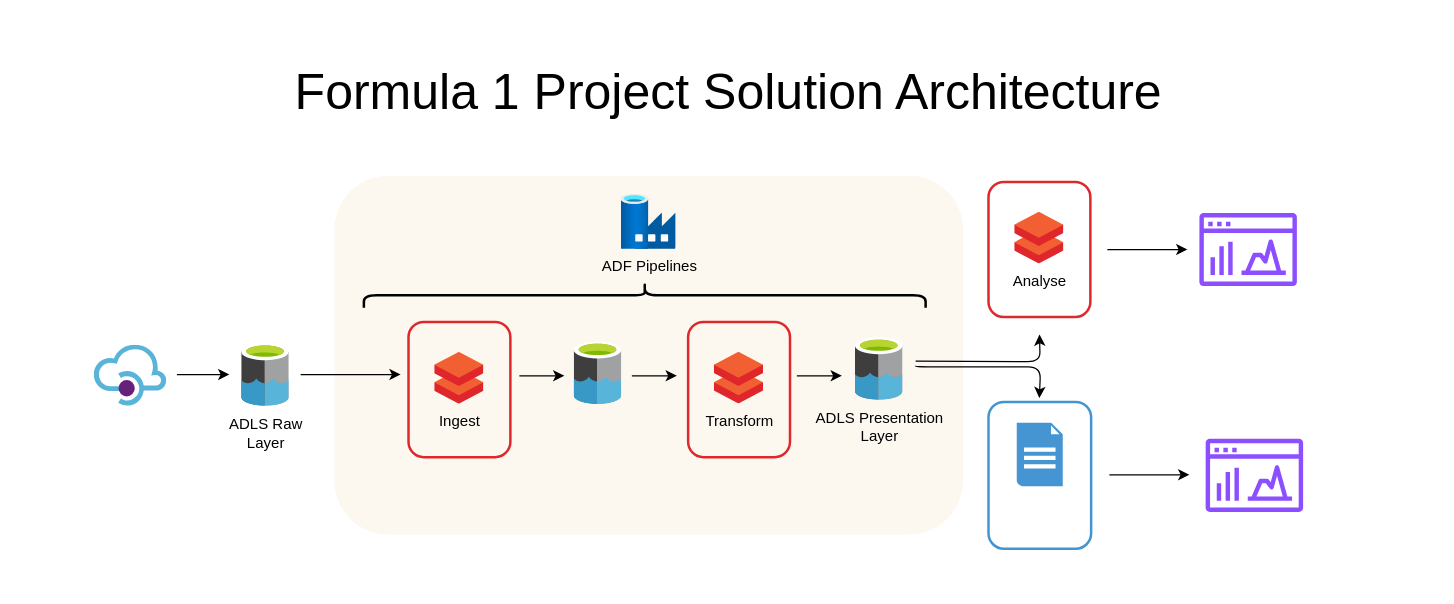
Image size: 1454x604. Some labels were removed from this diagram. Each missing label, with the box of its shape:
ADLS Ingested Layer: (574, 341, 621, 404)
Ergast API: (94, 345, 166, 406)
Power BI Report: (1016, 422, 1062, 486)
